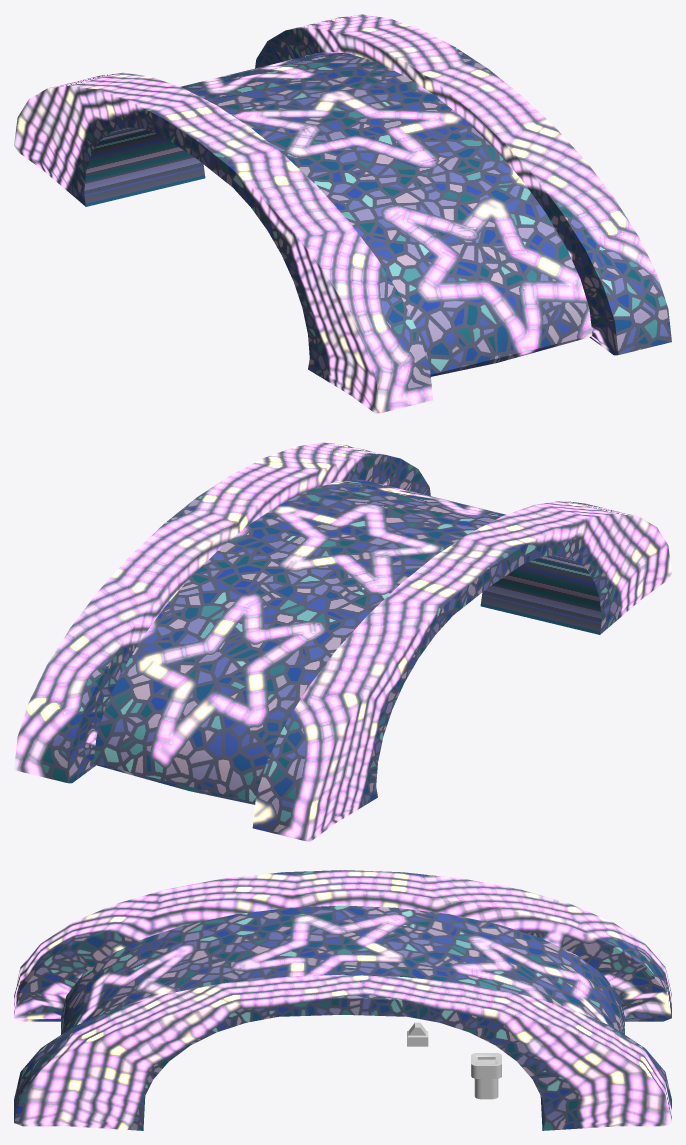
Rendered from Bridge (2).fbx.
3 renders of one model, top to bottom at view 1: azimuth 30°, elevation 25°; view 2: azimuth 150°, elevation 25°; view 3: azimuth 270°, elevation 25°, orthographic. The views are drawn at different scales.
Visible parts, largest first — view 1: Cylinder.001, Cylinder; view 2: Cylinder.001, Cylinder; view 3: Cylinder.001, Cylinder, Cube, Cube.002.
Boxes of the visible parts, x1,y1,x2,y2 form: Cylinder.001: (14,14,671,413); Cylinder: (84,51,592,376); Cylinder.001: (14,442,671,841); Cylinder: (93,479,601,804); Cylinder.001: (14,870,671,1130); Cylinder: (61,905,624,1130); Cube: (471,1053,501,1099); Cube.002: (407,1022,428,1046).
Bounding box in the file's own units: 227 × 110 × 492.
